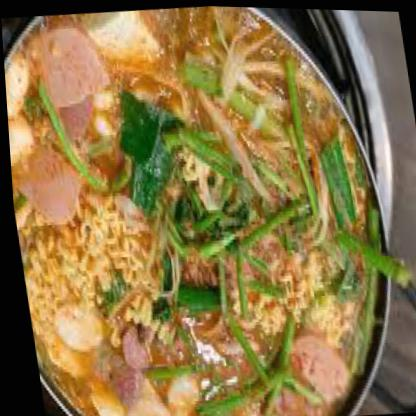budaejjigae: (0, 0, 390, 415)
